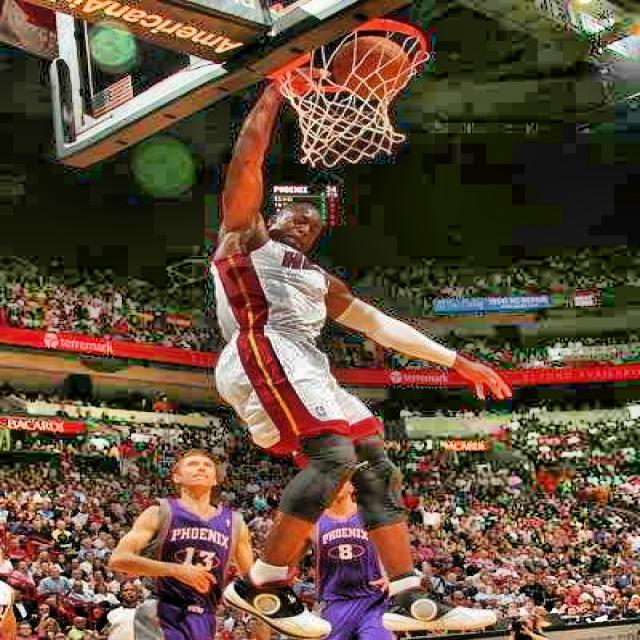rim: (275, 20, 429, 167)
